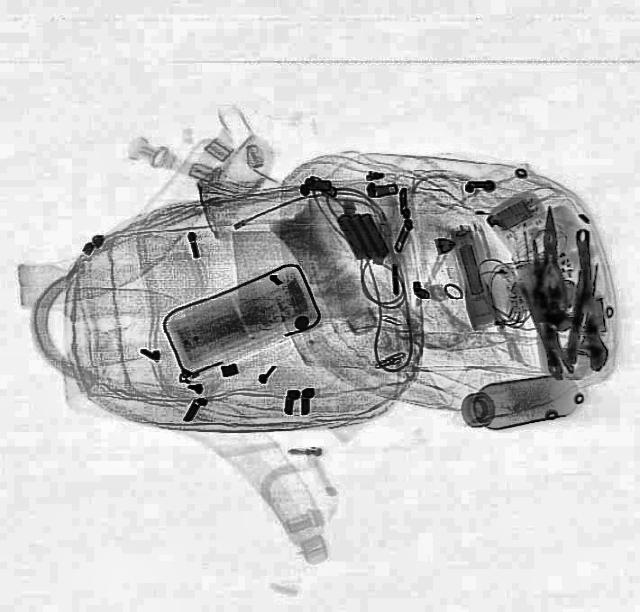Pliers: (527, 205, 571, 310)
Wrench: (568, 227, 606, 371)
